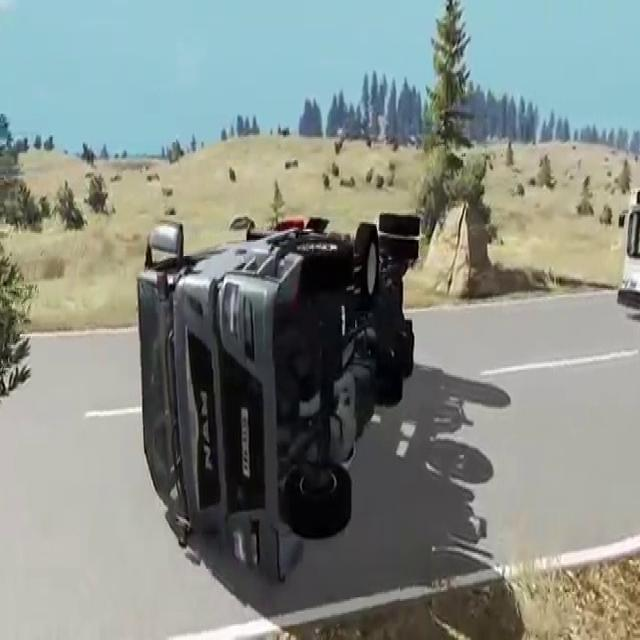accident: (133, 197, 429, 592)
